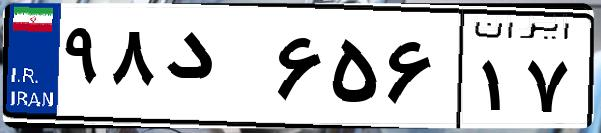1: (475, 38, 525, 113)
5: (330, 28, 385, 110)
6: (270, 28, 330, 110), (385, 28, 445, 110)
7: (525, 38, 570, 115)
8: (110, 28, 158, 98)
9: (57, 26, 110, 100)
د: (158, 20, 270, 120)
